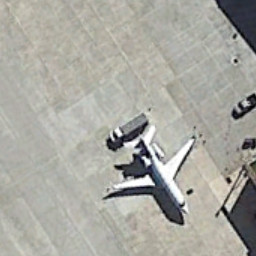Airplane: (102, 119, 204, 226)
